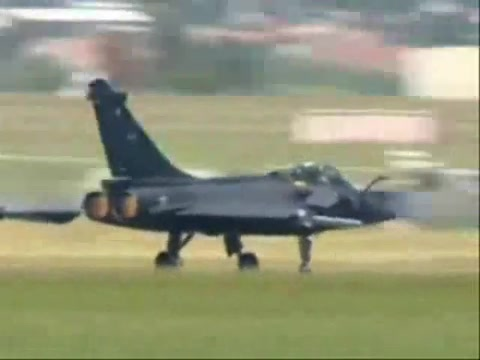aeroplane: (2, 77, 397, 277)
